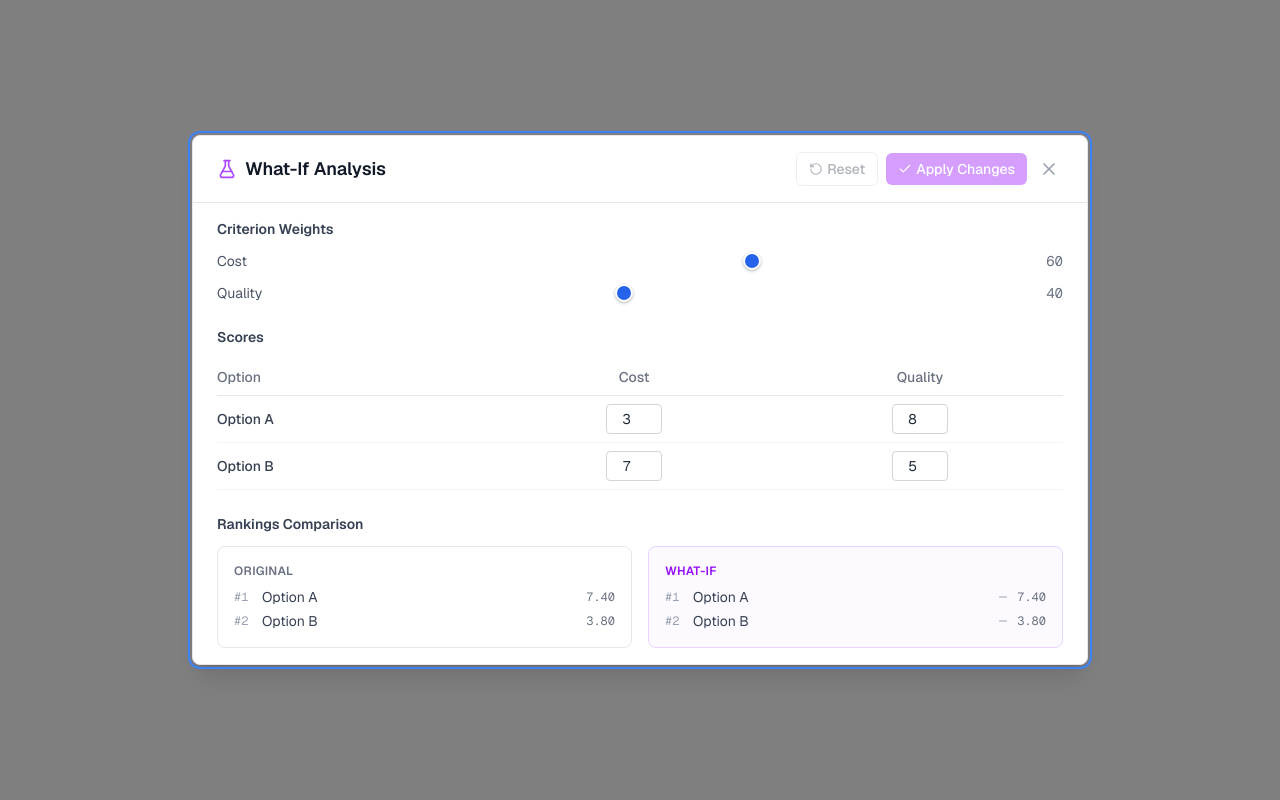
WhatIfPanel › enables Apply and Reset after changing a weight
Set the slider named "cost weight" to "80" at (882, 261), box x1=357 y1=258 x2=1019 y2=264
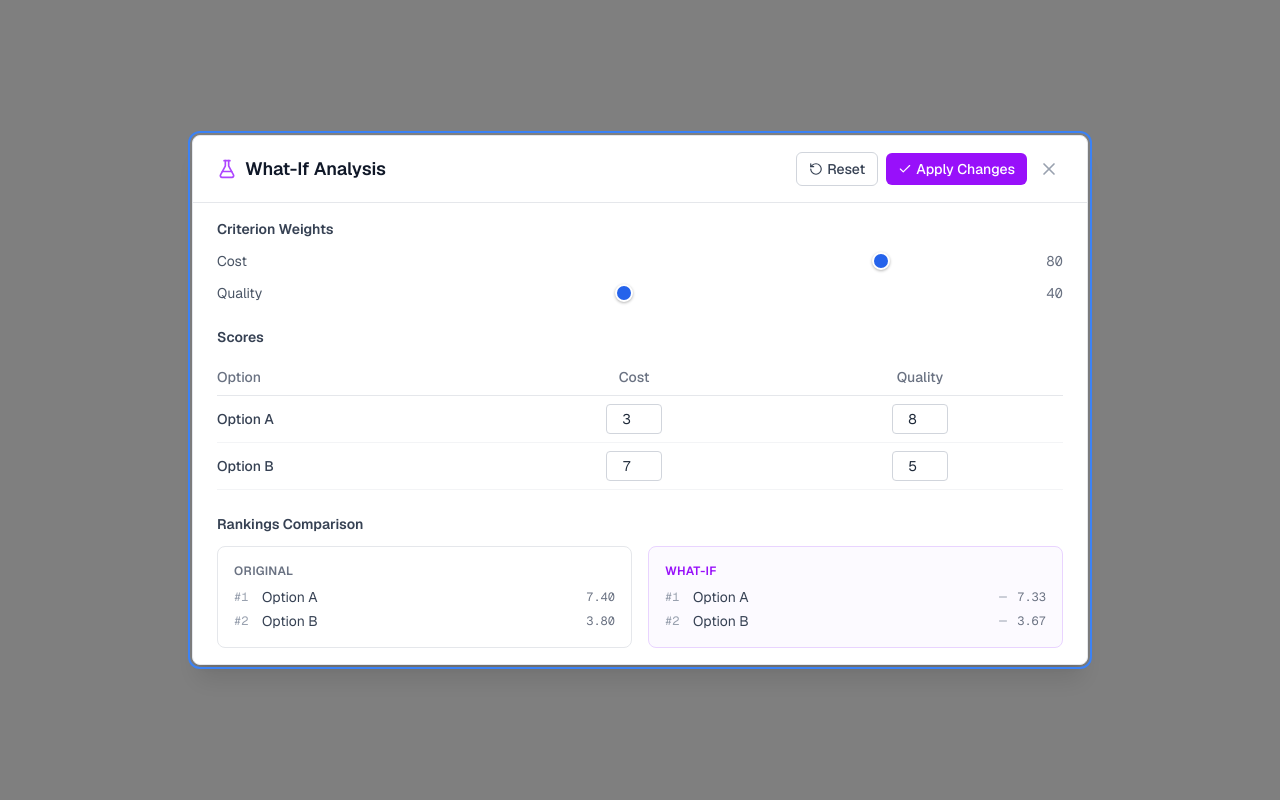
expect the button with test id "whatif-apply" is enabled: met, box x1=886 y1=153 x2=1027 y2=185
expect the button with test id "whatif-reset" is enabled: met, box x1=796 y1=152 x2=878 y2=186
